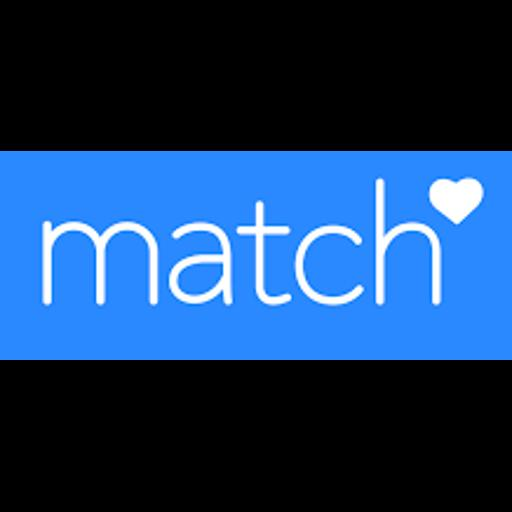Match: (0, 151, 512, 360)
